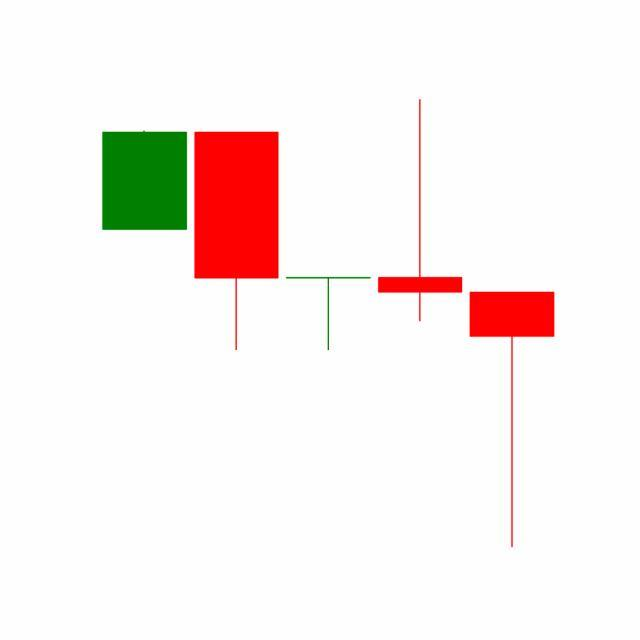Hammer: (466, 289, 559, 551)
